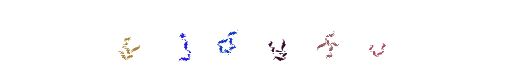B: (213, 0, 293, 80)
J: (170, 0, 250, 80)
K: (227, 0, 307, 80)
V: (239, 0, 319, 80)
Y: (169, 0, 249, 80), (225, 0, 305, 80)
